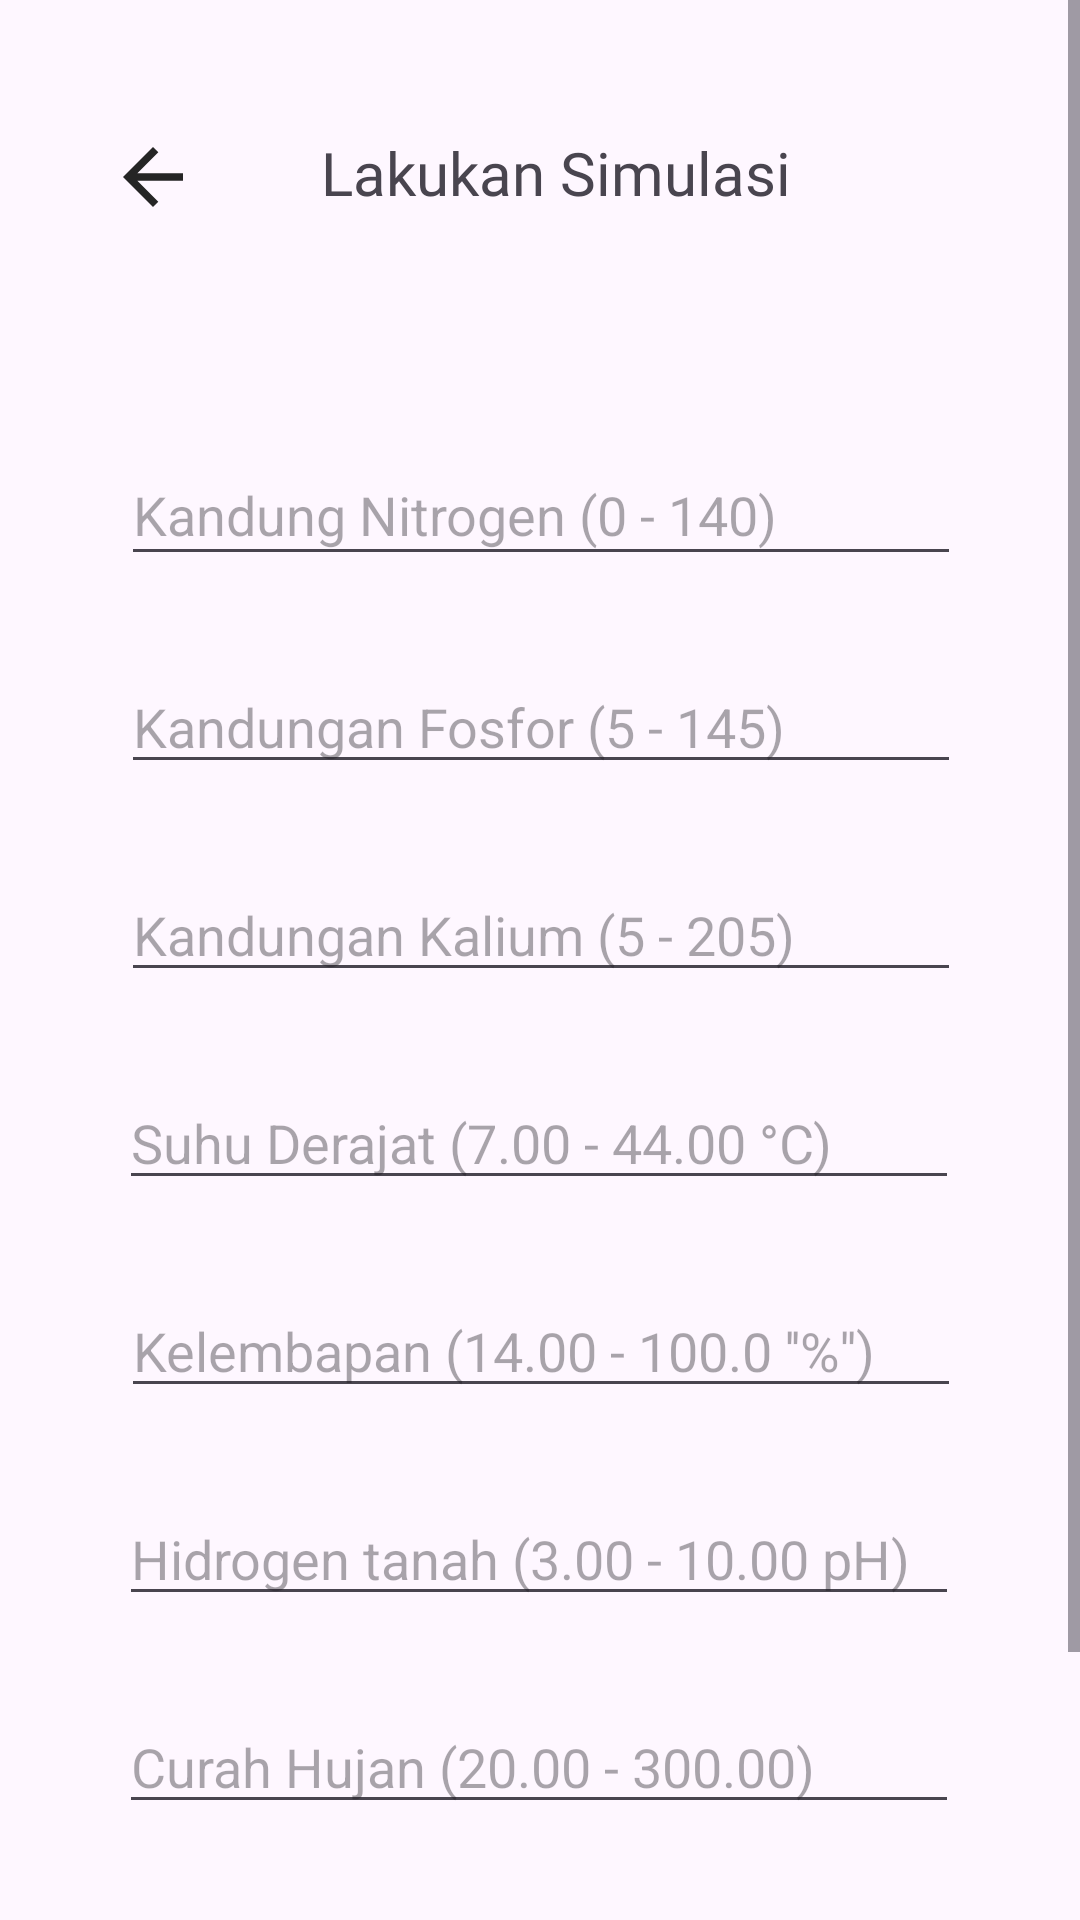

Icon bounding boxes for this 1080w x 1920h phone screenshot, format (x1, y1, x2, y2):
arrow back: (123, 147, 183, 207)
